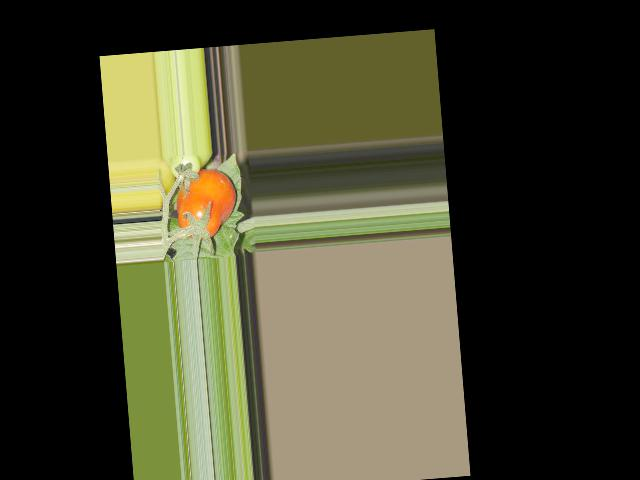tomato: (174, 167, 239, 240)
